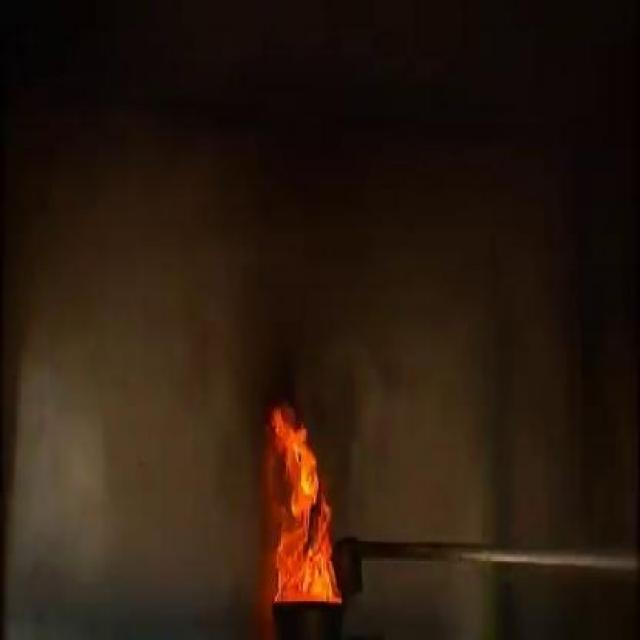fire: (266, 389, 342, 600)
